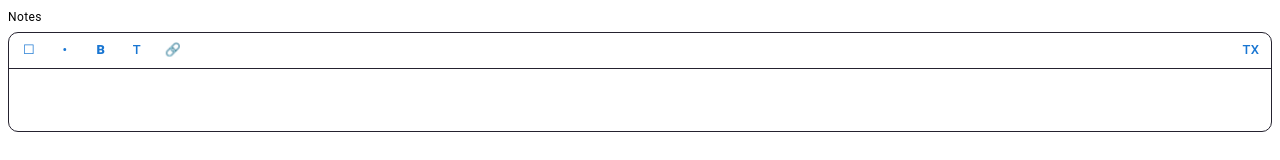
Test case: MarkdownEditor › Gras inserts its mark
Click the button named "Gras" at (101, 50), box [85,35,117,66]
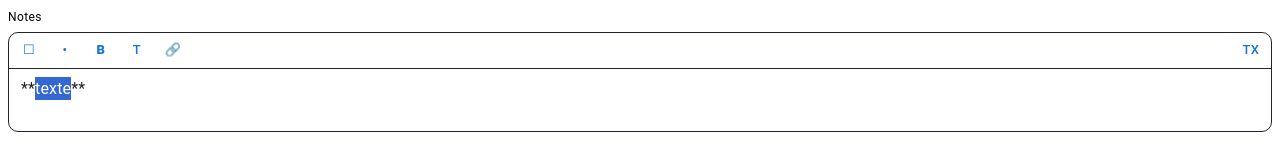
Check: the text box named "Notes" holds "**texte**", box [21,77,1259,123]
